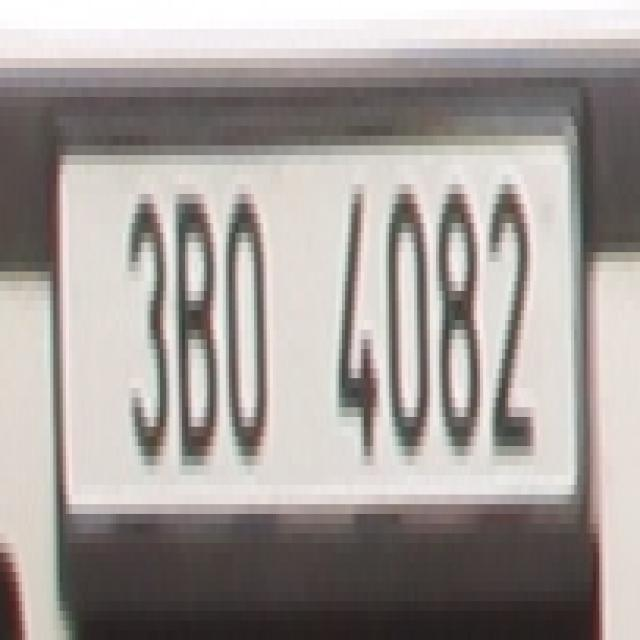0: (223, 194, 270, 465), (386, 165, 430, 436)
2: (486, 165, 536, 446)
3: (122, 184, 166, 466)
4: (332, 174, 382, 456)
8: (433, 165, 480, 446)
B: (172, 184, 220, 466)
